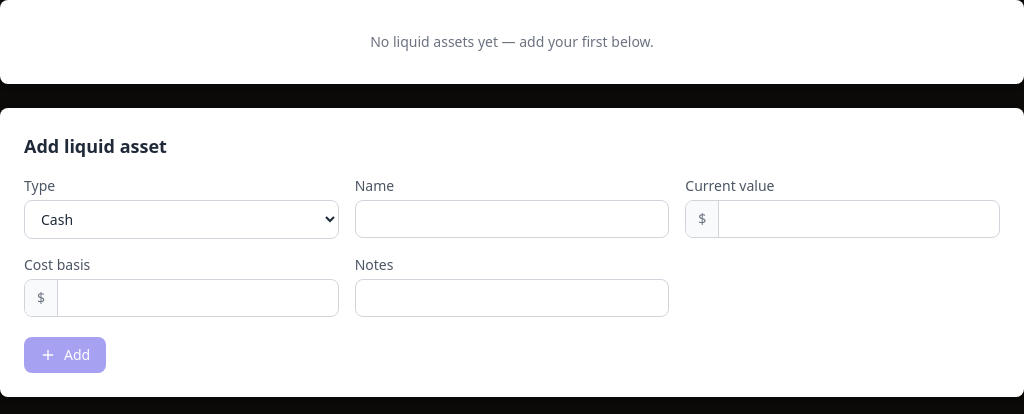
Test: CategoryManager › keeps the Add button disabled until required fields are filled
This screenshot has width=1024, height=414.
Check: the button "Add" is disabled, box [24,337,106,373]
Type "X" into the field below "Name" at (512, 219), box [355,200,669,238]
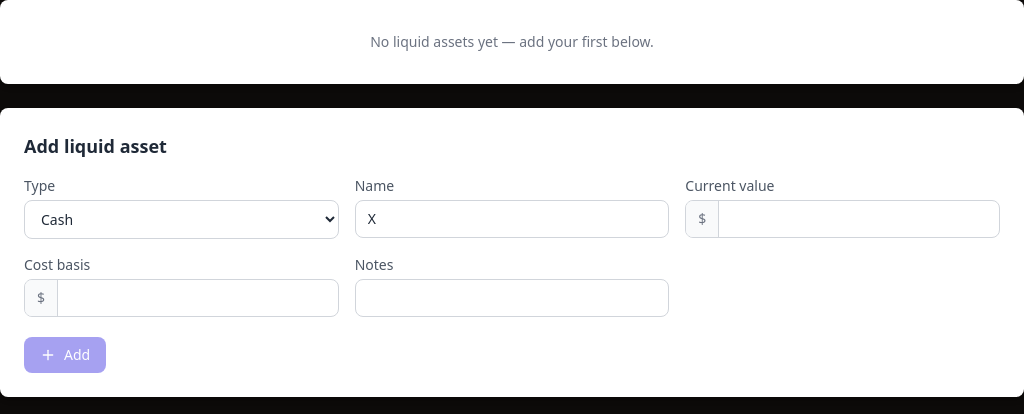
Type "1" into the field labelled "Current value" at (859, 219), box [719,201,999,237]
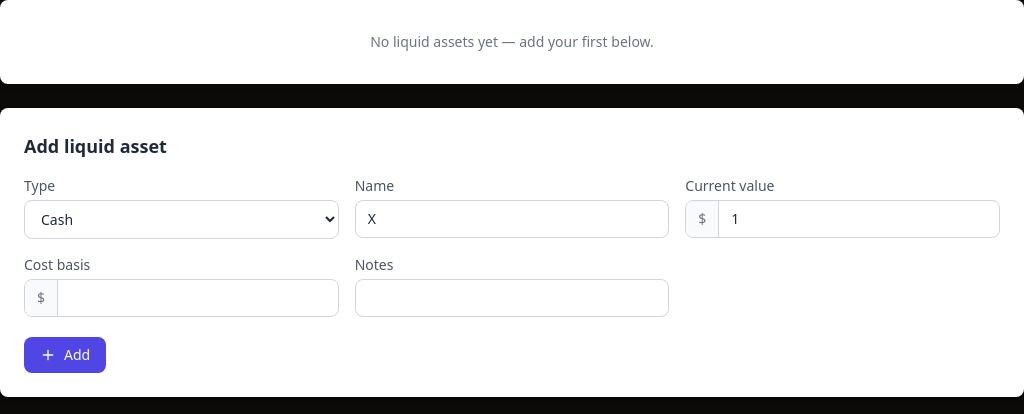
Check: the button "Add" is enabled, box [24,337,106,373]
